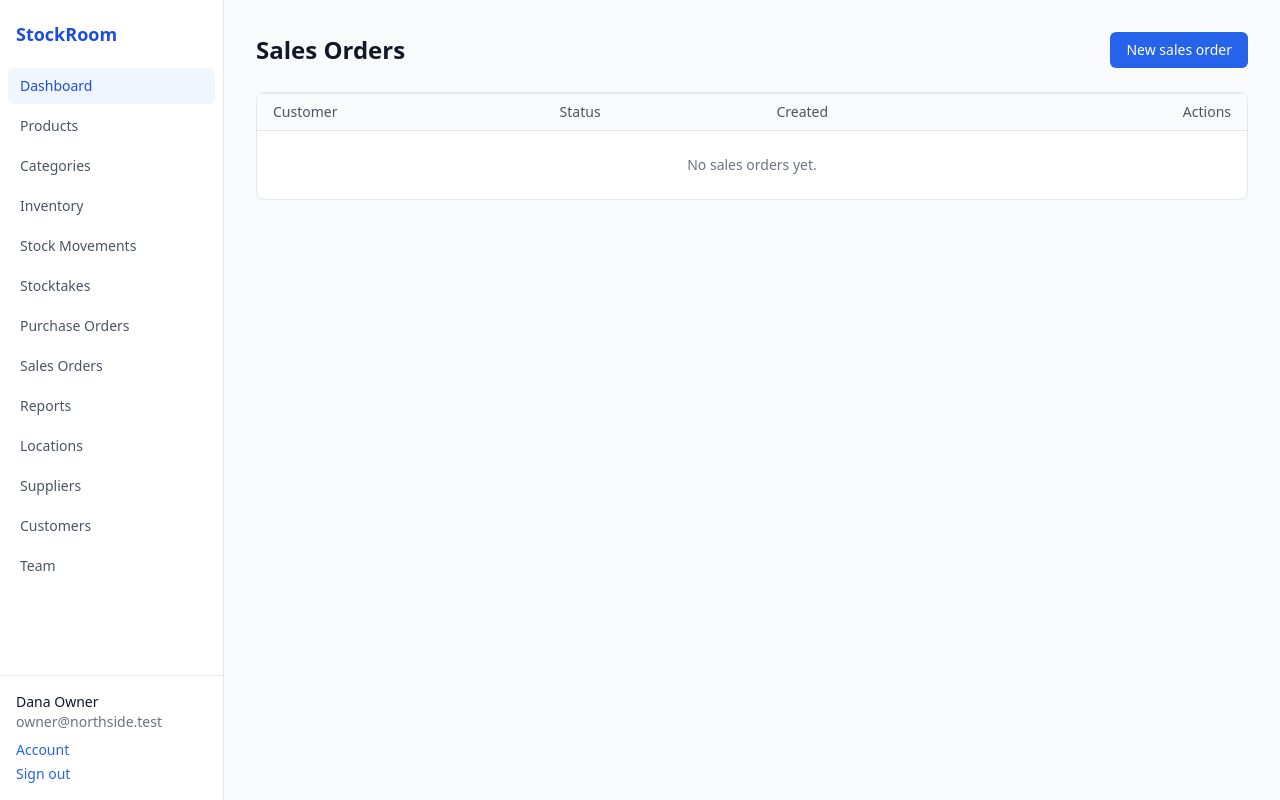
SalesOrdersPage create form › keeps the form open with the server's message when the save fails
Check: the text "No sales orders yet." is shown, box [257, 130, 1247, 199]
Click the button "New sales order". click: click(1179, 50)
box: [1110, 32, 1248, 68]
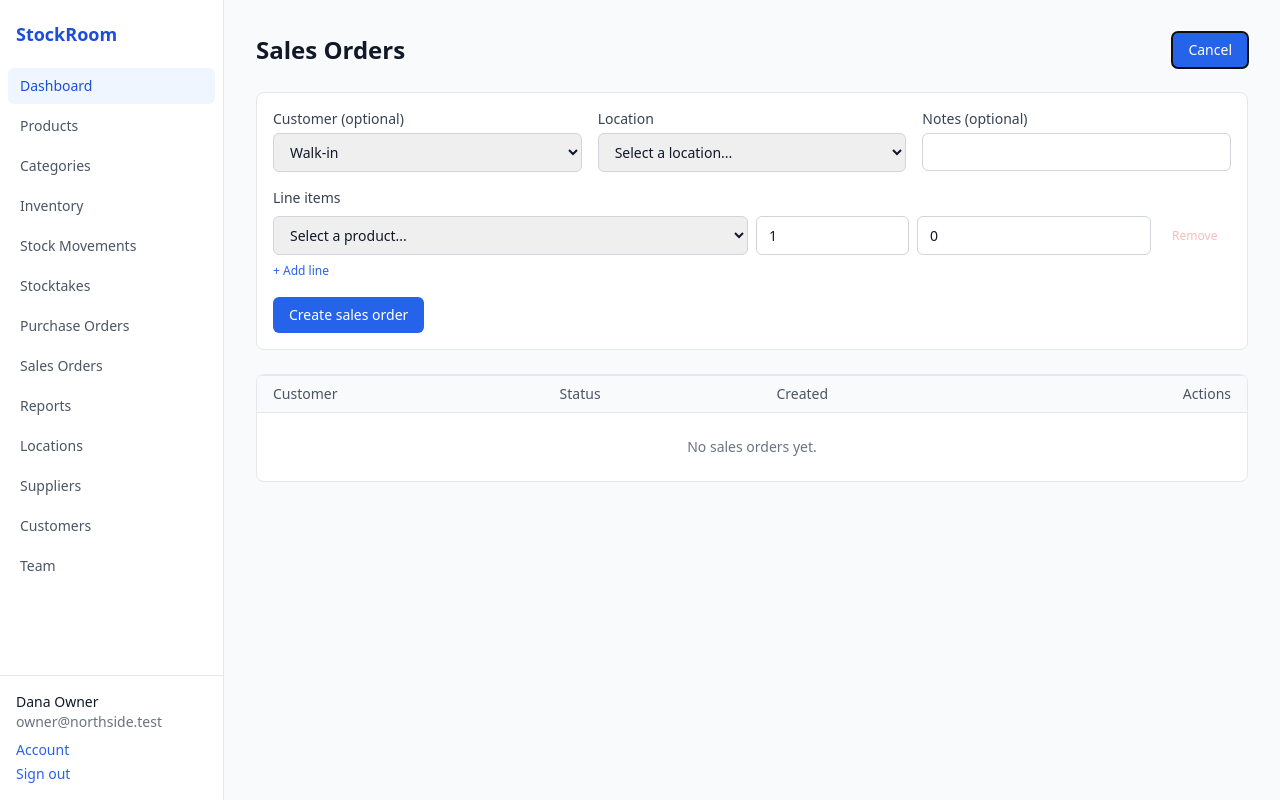
Select "Warehouse" in the dropdown labelled "Location". click: (752, 152)
box: [598, 133, 906, 172]
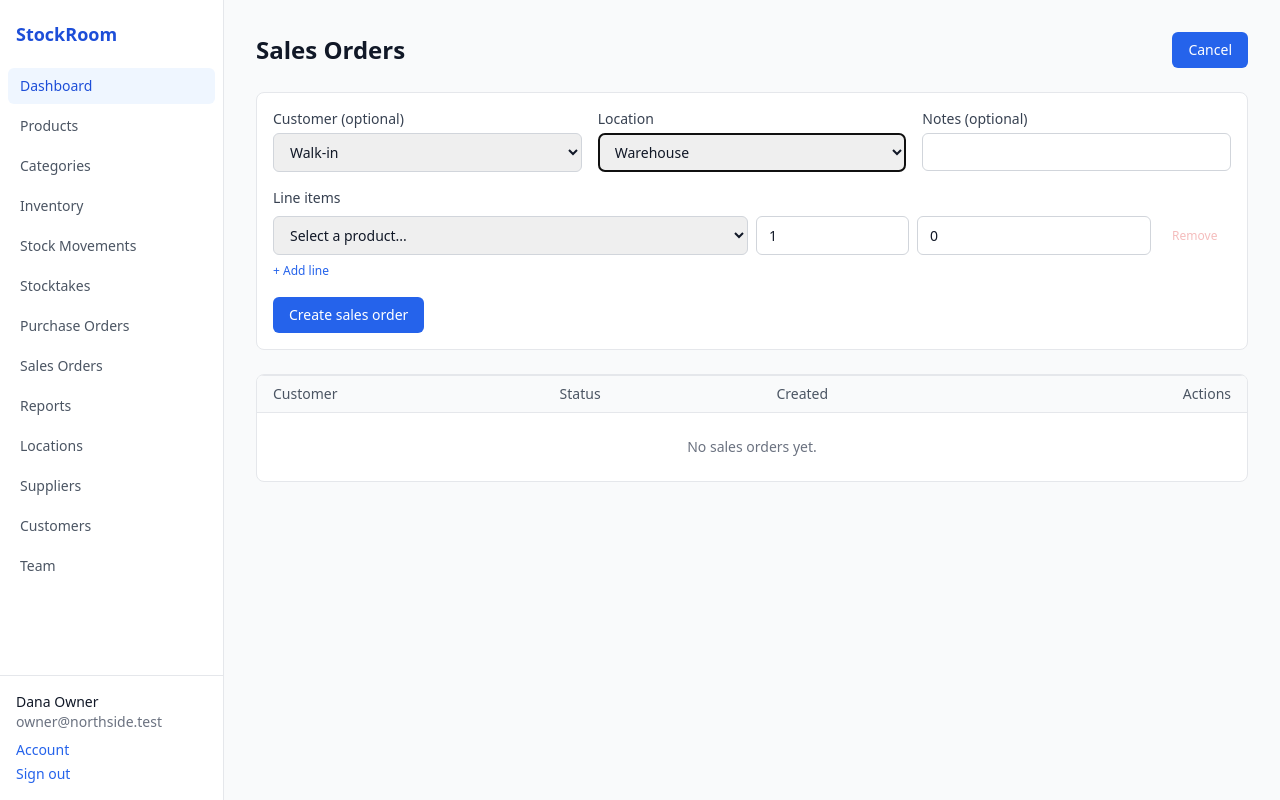
Select "Widget (WID-1)" in the 3rd dropdown. click: (510, 236)
box: [273, 216, 748, 255]
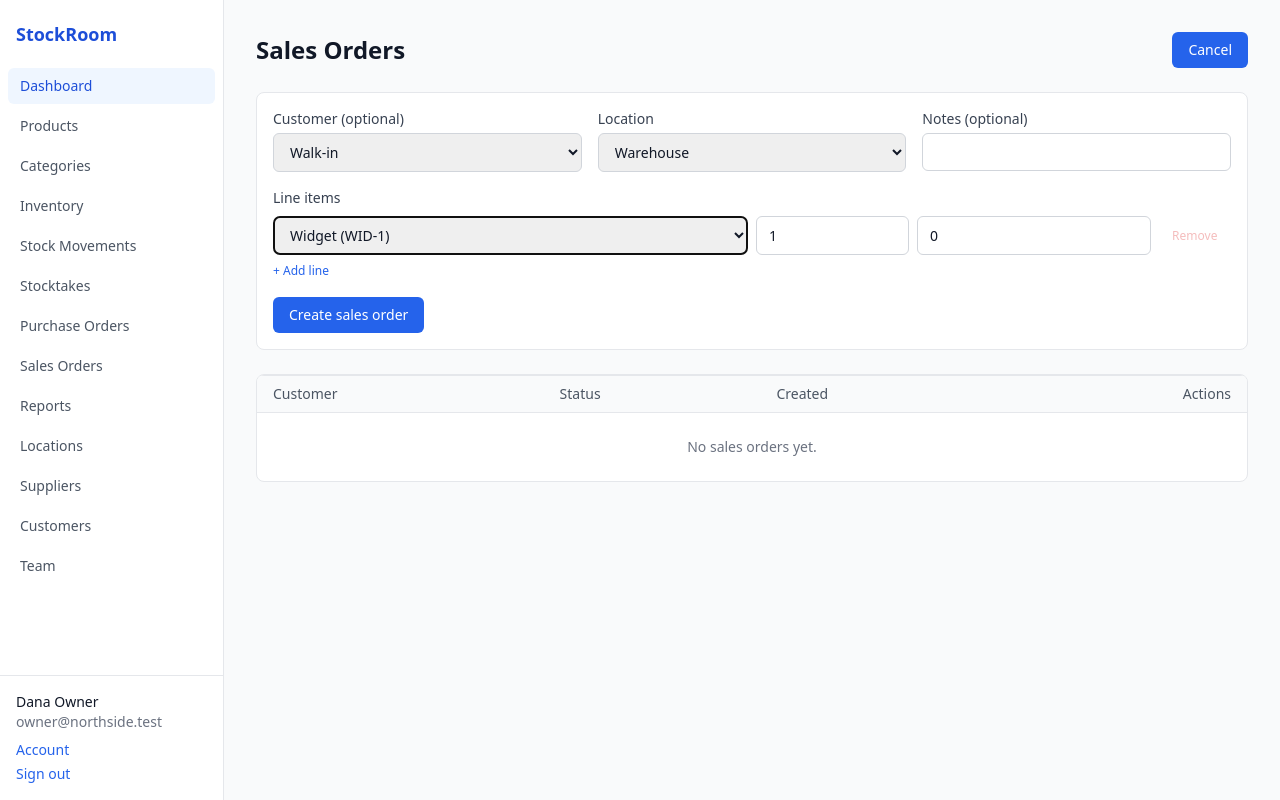
Click the button "Create sales order". click: click(349, 315)
box: [273, 297, 424, 333]
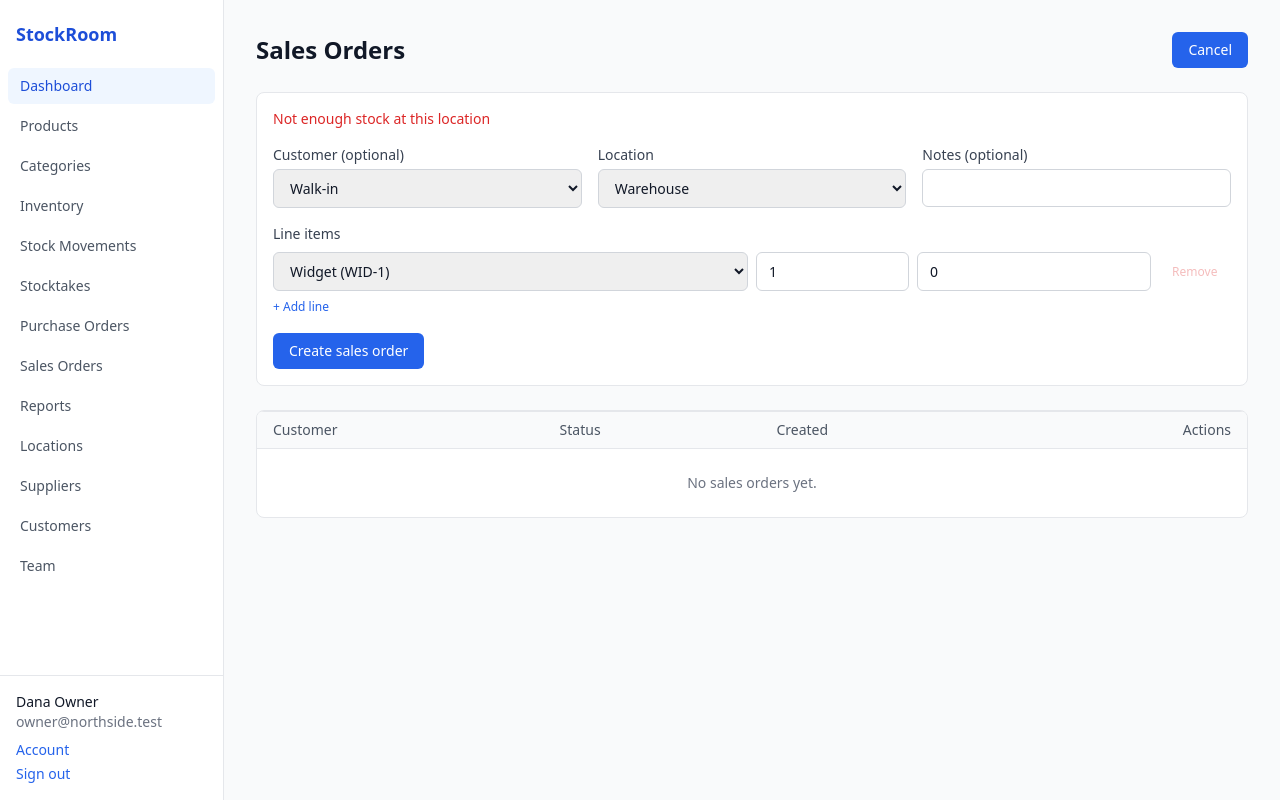
Check: the text "Not enough stock at this location" is shown, box [273, 109, 490, 128]
